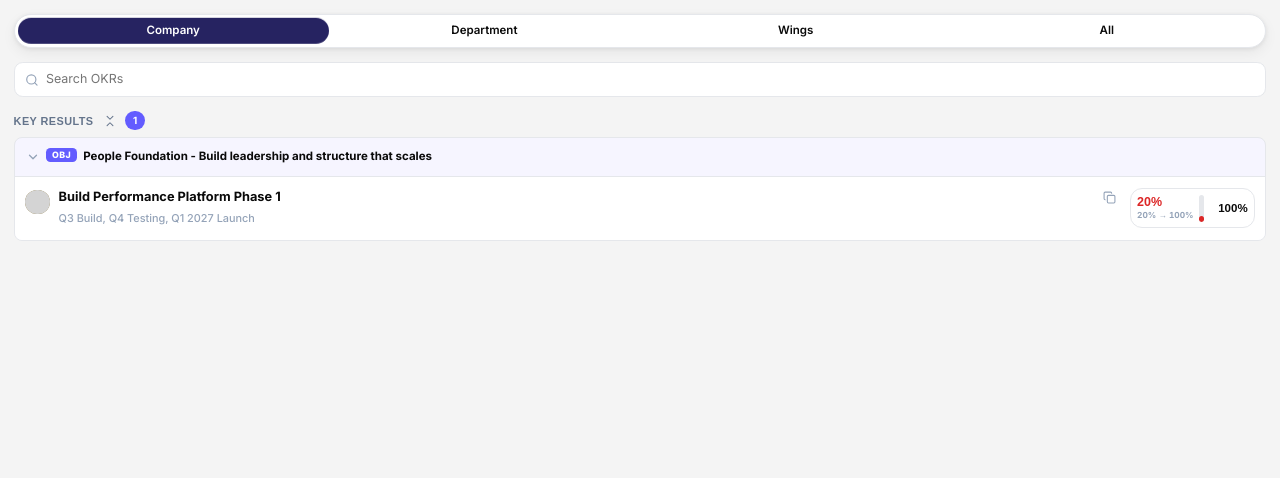
Scenario: GoalOkrReferenceList › switches the list between company, department, wings, and all
The width and height of the screenshot is (1280, 478).
Check: the text "Build Performance Platform Phase 1" is shown, box top-left (59, 189), bottom-right (281, 204)
Click the button "Department".
click(484, 31)  # box top-left (329, 18), bottom-right (640, 44)
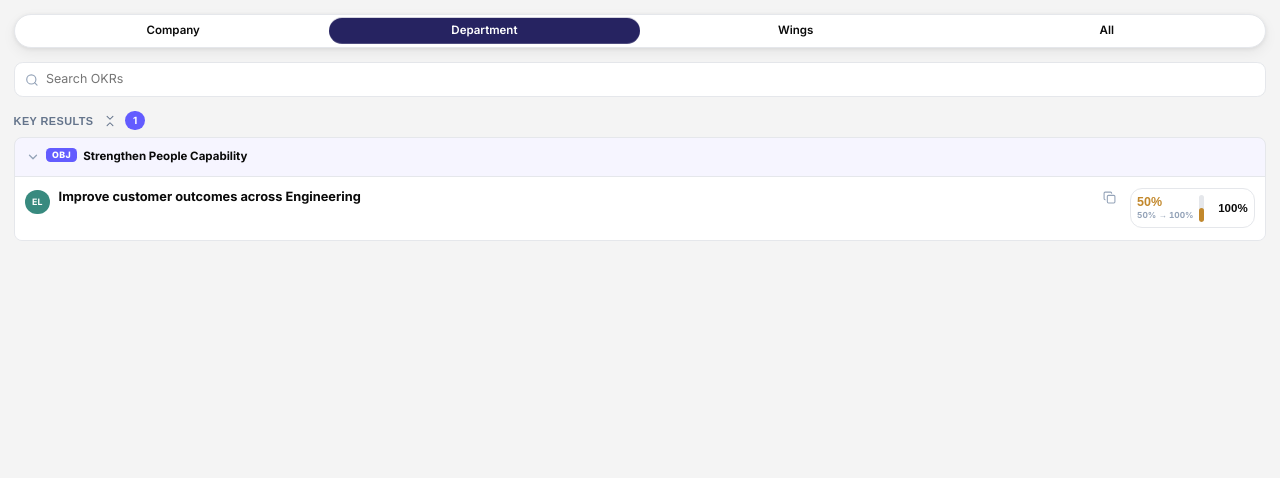
Check: the text "Improve customer outcomes across Engineering" is shown, box top-left (59, 189), bottom-right (361, 204)
Check: the button "Build Performance Platform Phase 1" is gone
Click the button "Wings".
click(796, 31)  # box top-left (640, 18), bottom-right (951, 44)
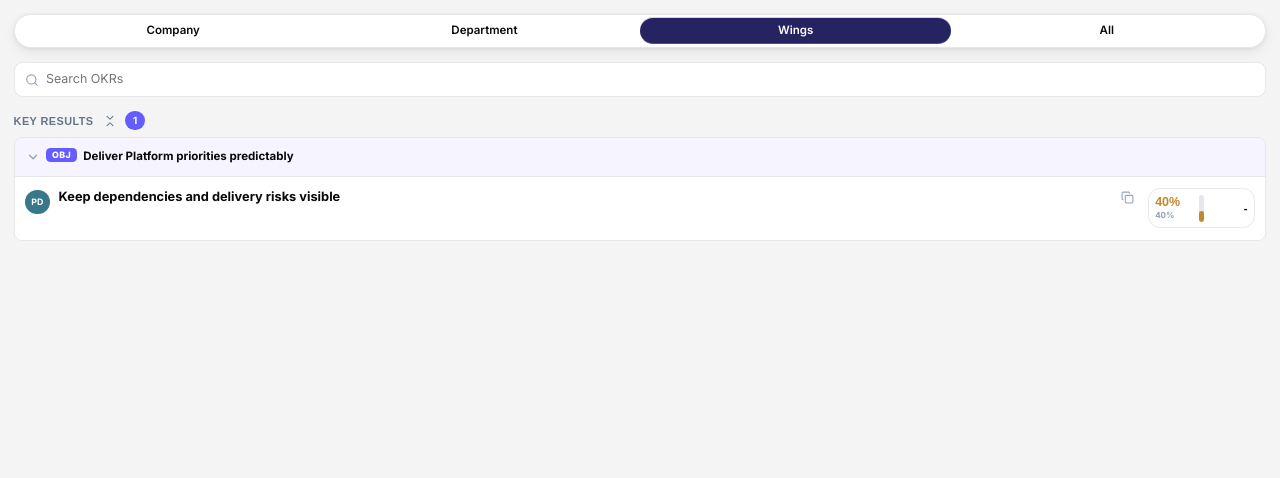
Check: the text "Keep dependencies and delivery risks visible" is shown, box top-left (59, 189), bottom-right (340, 204)
Check: the button "Keep dependencies and delivery risks visible" shows "40%", box top-left (15, 177), bottom-right (1265, 240)
Click the button "All".
click(1107, 31)  # box top-left (951, 18), bottom-right (1262, 44)
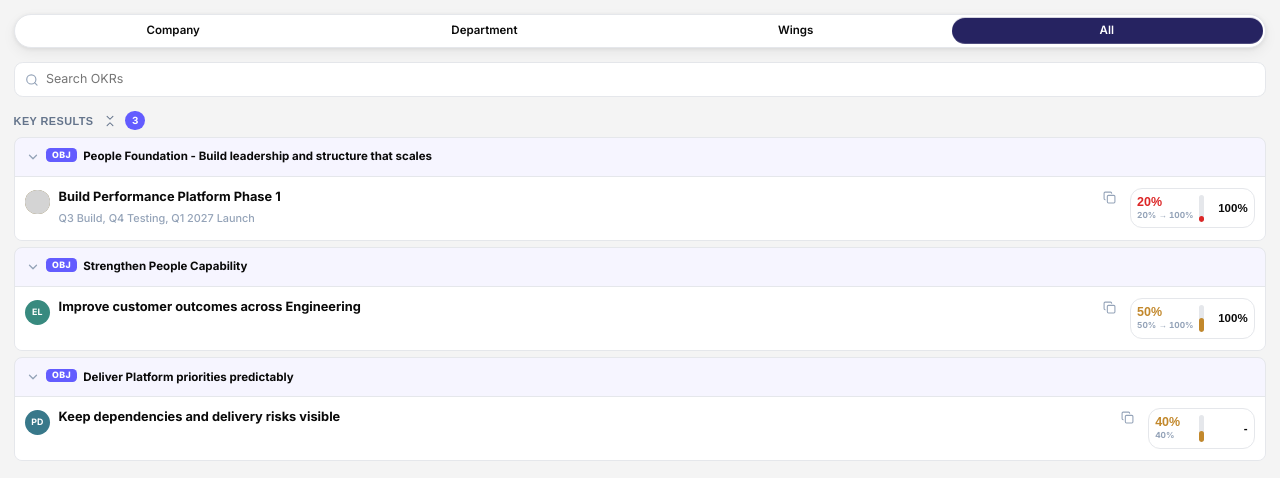
Check: the text "Keep dependencies and delivery risks visible" is shown, box top-left (59, 409), bottom-right (340, 424)
Check: the text "Build Performance Platform Phase 1" is shown, box top-left (59, 189), bottom-right (281, 204)
Check: the text "Improve customer outcomes across Engineering" is shown, box top-left (59, 299), bottom-right (361, 314)
